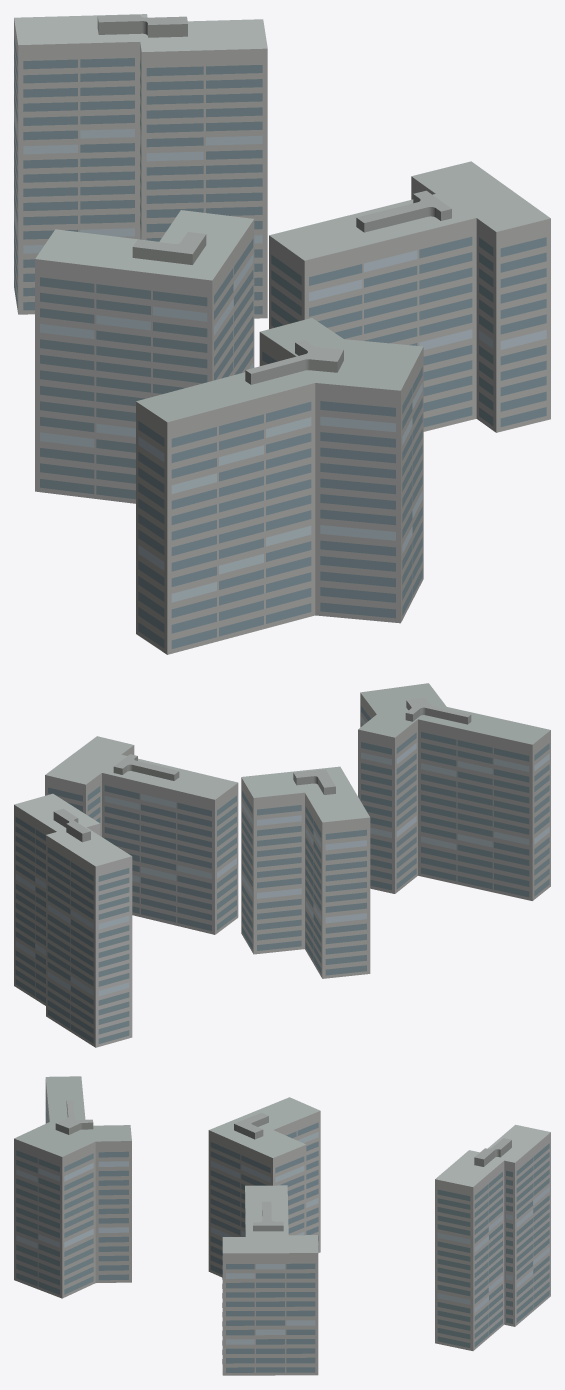
Rendered from apt-a12072801.glb.
3 renders of one model, top to bottom at view 1: azimuth 30°, elevation 25°; view 2: azimuth 150°, elevation 25°; view 3: azimuth 270°, elevation 25°, orthographic. The views are drawn at different scales.
Parts seen in each view (by area): view 1: apt-a12072801; view 2: apt-a12072801; view 3: apt-a12072801.
Part boxes in pixels (box(x1,y1,x2,y2)): apt-a12072801: box(14, 14, 550, 654); apt-a12072801: box(14, 683, 550, 1047); apt-a12072801: box(14, 1076, 550, 1375).
Size of the model in its own units: 100 by 51 by 144.
